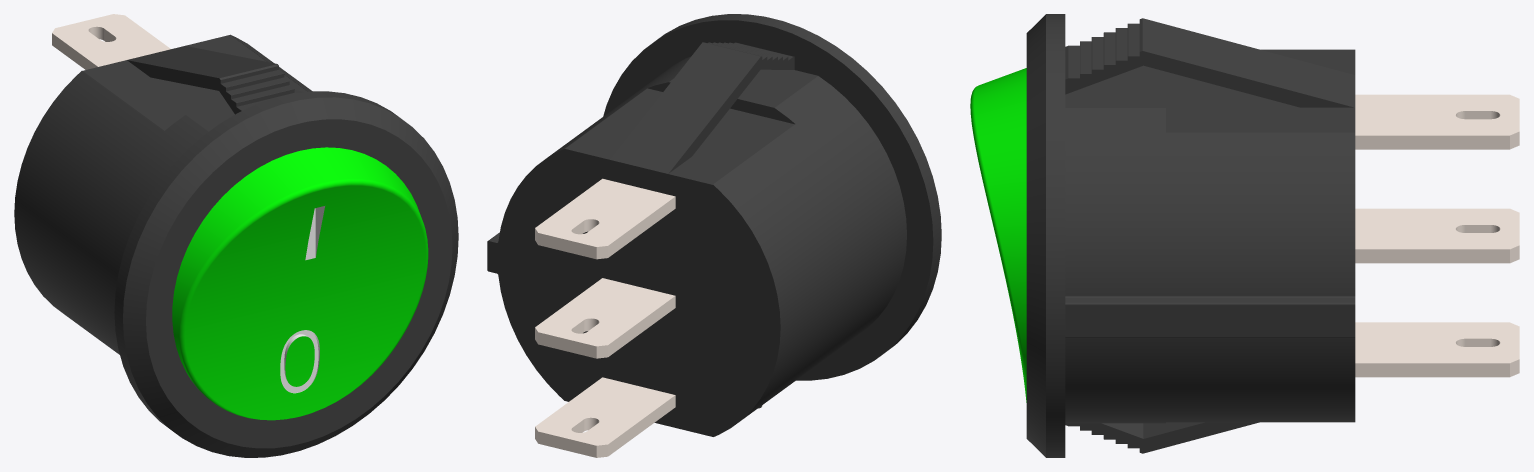
Rendered from ARCADA001 - Part 1 (15).obj.
3 renders of one model, left to right at view 1: azimuth 30°, elevation 25°; view 2: azimuth 150°, elevation 25°; view 3: azimuth 270°, elevation 25°, orthographic. The views are drawn at different scales.
Visible parts, largest first — view 1: mesh7, mesh81, mesh2, mesh1, mesh3, mesh78, mesh0, mesh118, mesh4, mesh51, mesh75, mesh18 (+3 smaller); view 2: mesh90, mesh81, mesh23, mesh51, mesh78, mesh107, mesh118, mesh113, mesh0, mesh72, mesh75, mesh95 (+7 smaller); view 3: mesh71, mesh82, mesh26, mesh0, mesh3, mesh78, mesh1, mesh51, mesh107, mesh113, mesh118, mesh74 (+10 smaller).
Part boxes in pixels (x1=…): mesh7: x1=185, y1=186, x2=425, y2=419; mesh81: x1=14, y1=71, x2=208, y2=354; mesh2: x1=146, y1=119, x2=452, y2=448; mesh1: x1=123, y1=97, x2=458, y2=457; mesh3: x1=172, y1=147, x2=420, y2=378; mesh78: x1=83, y1=35, x2=307, y2=130; mesh0: x1=114, y1=91, x2=398, y2=432; mesh118: x1=52, y1=14, x2=170, y2=66; mesh4: x1=179, y1=178, x2=428, y2=380; mesh51: x1=127, y1=46, x2=276, y2=78; mesh75: x1=127, y1=60, x2=241, y2=114; mesh18: x1=285, y1=336, x2=314, y2=386; mesh90: x1=487, y1=149, x2=780, y2=436; mesh81: x1=713, y1=76, x2=906, y2=419; mesh23: x1=603, y1=20, x2=933, y2=380; mesh51: x1=610, y1=42, x2=760, y2=173; mesh78: x1=565, y1=88, x2=794, y2=184; mesh107: x1=535, y1=278, x2=674, y2=346; mesh118: x1=535, y1=178, x2=674, y2=246; mesh113: x1=535, y1=377, x2=674, y2=445; mesh0: x1=658, y1=14, x2=941, y2=356; mesh72: x1=669, y1=69, x2=817, y2=107; mesh75: x1=668, y1=56, x2=794, y2=173; mesh95: x1=608, y1=196, x2=675, y2=257; mesh71: x1=1065, y1=108, x2=1355, y2=295; mesh82: x1=1065, y1=338, x2=1355, y2=423; mesh26: x1=1065, y1=305, x2=1355, y2=336; mesh0: x1=1046, y1=14, x2=1065, y2=457; mesh3: x1=974, y1=68, x2=1026, y2=374; mesh78: x1=1166, y1=50, x2=1355, y2=132; mesh1: x1=1026, y1=14, x2=1045, y2=457; mesh51: x1=1142, y1=18, x2=1355, y2=107; mesh107: x1=1355, y1=208, x2=1519, y2=249; mesh113: x1=1355, y1=322, x2=1519, y2=363; mesh118: x1=1355, y1=94, x2=1519, y2=135; mesh74: x1=1065, y1=51, x2=1353, y2=107.
Bounding box in the file's own units: 0.023 × 0.023 × 0.0284.
